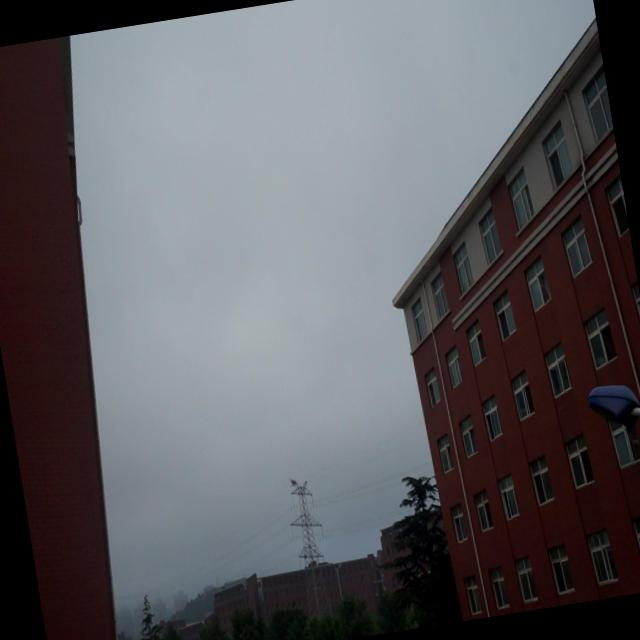drone: (286, 472, 301, 491)
